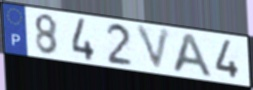2: (105, 22, 134, 69)
4: (70, 16, 97, 64), (213, 39, 242, 81)
8: (33, 13, 60, 57)
A: (170, 32, 215, 80)
V: (133, 23, 174, 74)
